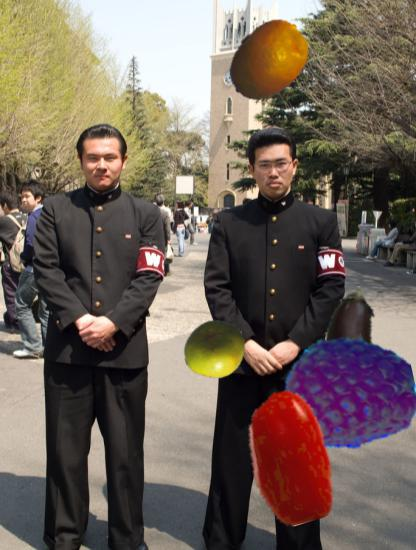Eggplant: (292, 291, 416, 415)
Kumquats: (224, 16, 313, 105)
Pomelo: (183, 318, 247, 382)
Raspberry: (283, 325, 415, 457)
Tomato: (221, 389, 358, 526)
